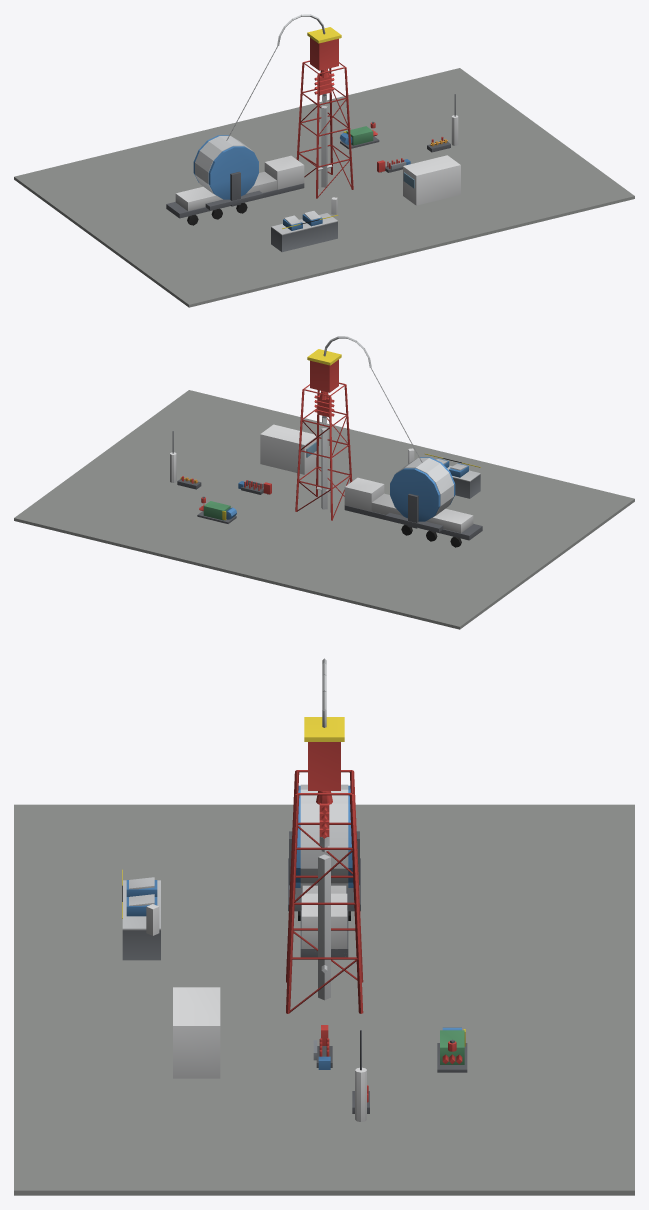
Rendered from ctu_low.glb.
3 renders of one model, top to bottom at view 1: azimuth 30°, elevation 25°; view 2: azimuth 150°, elevation 25°; view 3: azimuth 270°, elevation 25°, orthographic. The views are drawn at different scales.
Parts seen in each view (by area): view 1: site__pad, drawworks__drum, carrier__truck, carrier__control, mast__mast, mudtanks__tanks, topdrive__motor, bop__wellhead.001, mudpumps__powerend, mudtanks__solids, drawworks__skid; view 2: site__pad, drawworks__drum, carrier__truck, carrier__control, mast__mast, topdrive__motor, mudtanks__tanks, bop__wellhead.001, mudpumps__powerend, drawworks__skid; view 3: site__pad, mast__mast, carrier__control, drawworks__drum, topdrive__motor, carrier__truck, mudtanks__tanks, bop__wellhead.001, mudtanks__solids, mudpumps__powerend.
Part boxes in pixels (x1=…): site__pad: x1=14, y1=68, x2=634, y2=307; drawworks__drum: x1=193, y1=135, x2=258, y2=206; carrier__truck: x1=166, y1=155, x2=304, y2=225; carrier__control: x1=403, y1=155, x2=460, y2=205; mast__mast: x1=296, y1=60, x2=353, y2=198; mudtanks__tanks: x1=271, y1=213, x2=338, y2=252; topdrive__motor: x1=307, y1=27, x2=341, y2=70; bop__wellhead.001: x1=318, y1=106, x2=332, y2=187; mudpumps__powerend: x1=340, y1=126, x2=379, y2=149; mudtanks__solids: x1=283, y1=211, x2=322, y2=230; drawworks__skid: x1=205, y1=190, x2=263, y2=210; site__pad: x1=14, y1=390, x2=634, y2=629; drawworks__drum: x1=390, y1=457, x2=455, y2=528; carrier__truck: x1=344, y1=477, x2=482, y2=547; carrier__control: x1=260, y1=424, x2=316, y2=474; mast__mast: x1=295, y1=382, x2=352, y2=520; topdrive__motor: x1=307, y1=349, x2=341, y2=392; mudtanks__tanks: x1=425, y1=453, x2=480, y2=498; bop__wellhead.001: x1=316, y1=428, x2=330, y2=509; mudpumps__powerend: x1=197, y1=501, x2=236, y2=523; drawworks__skid: x1=385, y1=512, x2=443, y2=532; site__pad: x1=14, y1=804, x2=634, y2=1195; mast__mast: x1=286, y1=770, x2=363, y2=1013; carrier__control: x1=173, y1=987, x2=220, y2=1078; drawworks__drum: x1=289, y1=784, x2=359, y2=888; topdrive__motor: x1=304, y1=717, x2=344, y2=790; carrier__truck: x1=298, y1=885, x2=350, y2=957; mudtanks__tanks: x1=122, y1=869, x2=160, y2=960; bop__wellhead.001: x1=318, y1=854, x2=330, y2=1000; mudtanks__solids: x1=126, y1=877, x2=157, y2=916; mudpumps__powerend: x1=437, y1=1030, x2=467, y2=1072.
Size of the model in its own units: 50 by 19.32 by 34.
